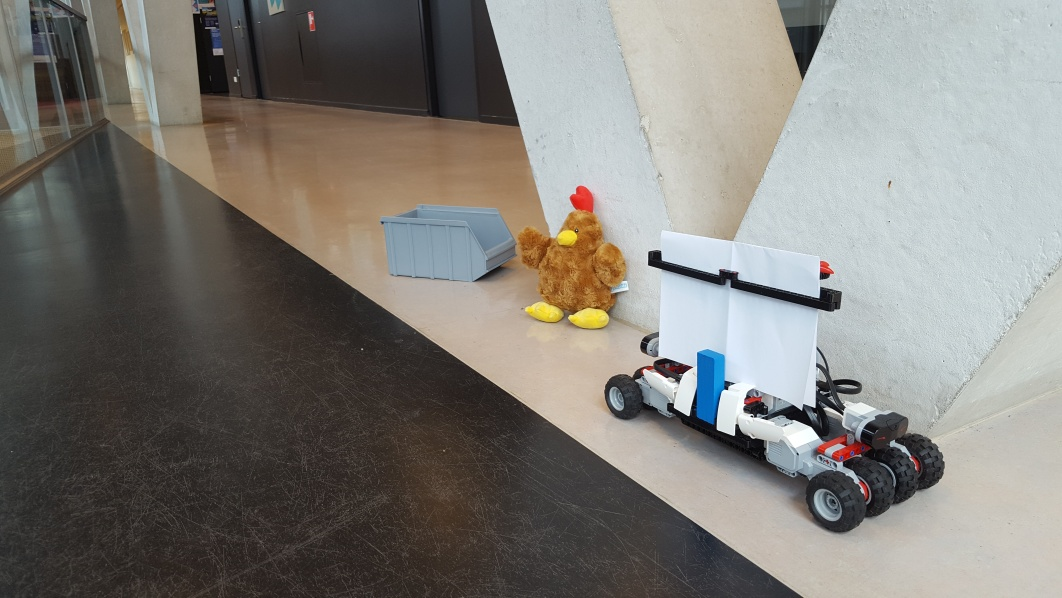car: (604, 232, 946, 536)
chicken: (520, 185, 629, 328)
tray: (377, 202, 517, 282)
